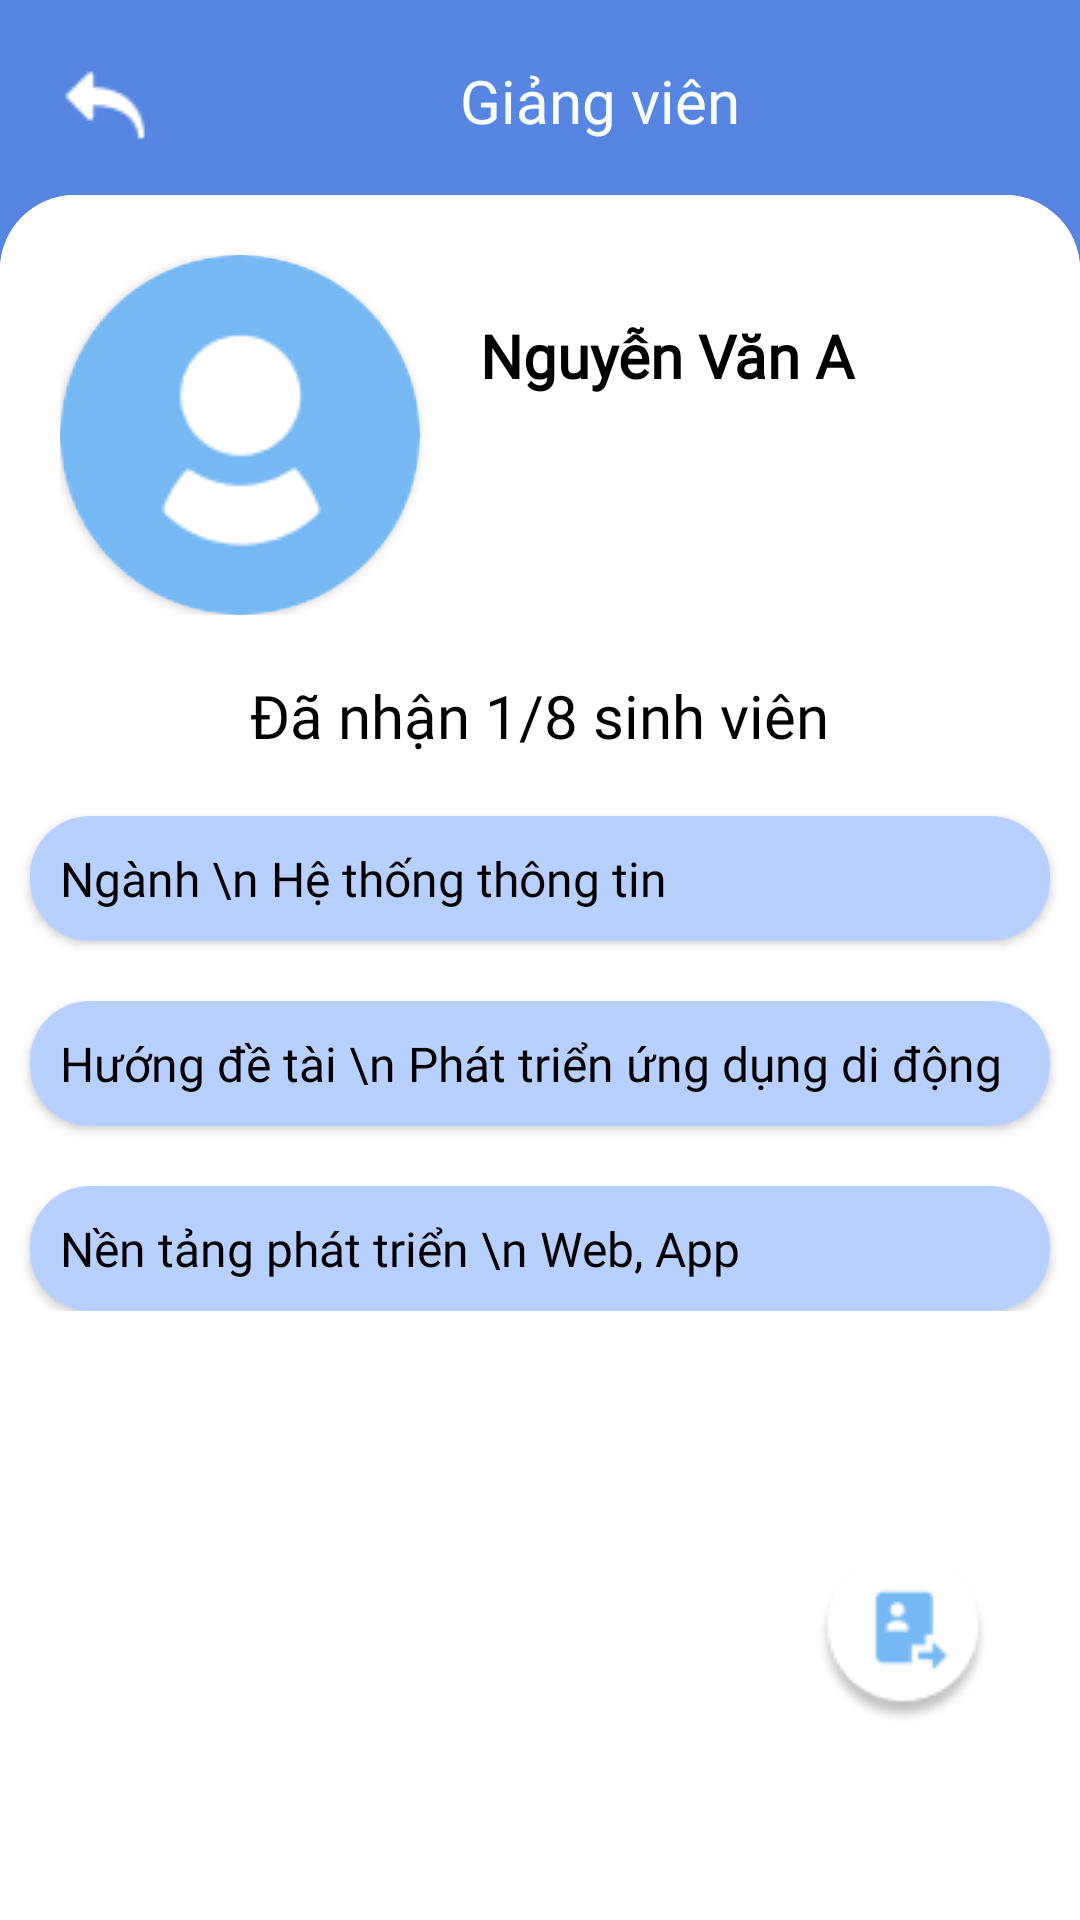

Where icons sit on this 1080 x 1920 app screen, as bbox=[x1, y1, x2, y2]:
apply: bbox=[827, 1590, 979, 1714]
backarrow: bbox=[65, 71, 145, 139]
